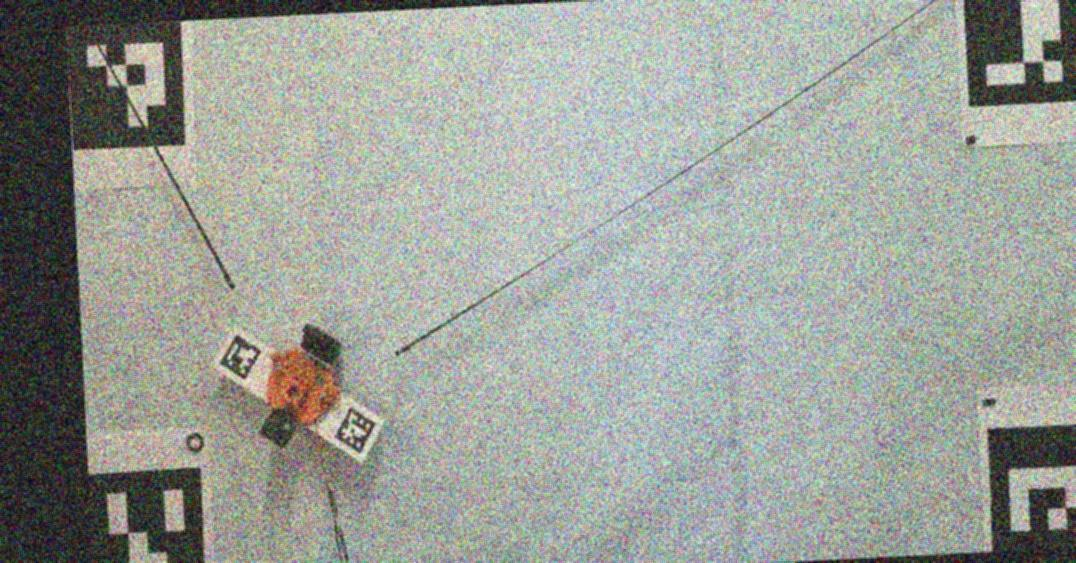robot: (259, 325, 344, 448)
